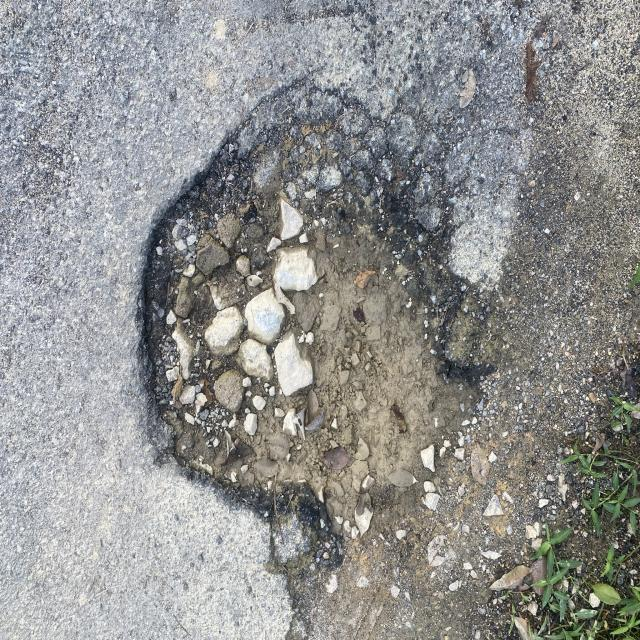pothole: (101, 45, 544, 584)
